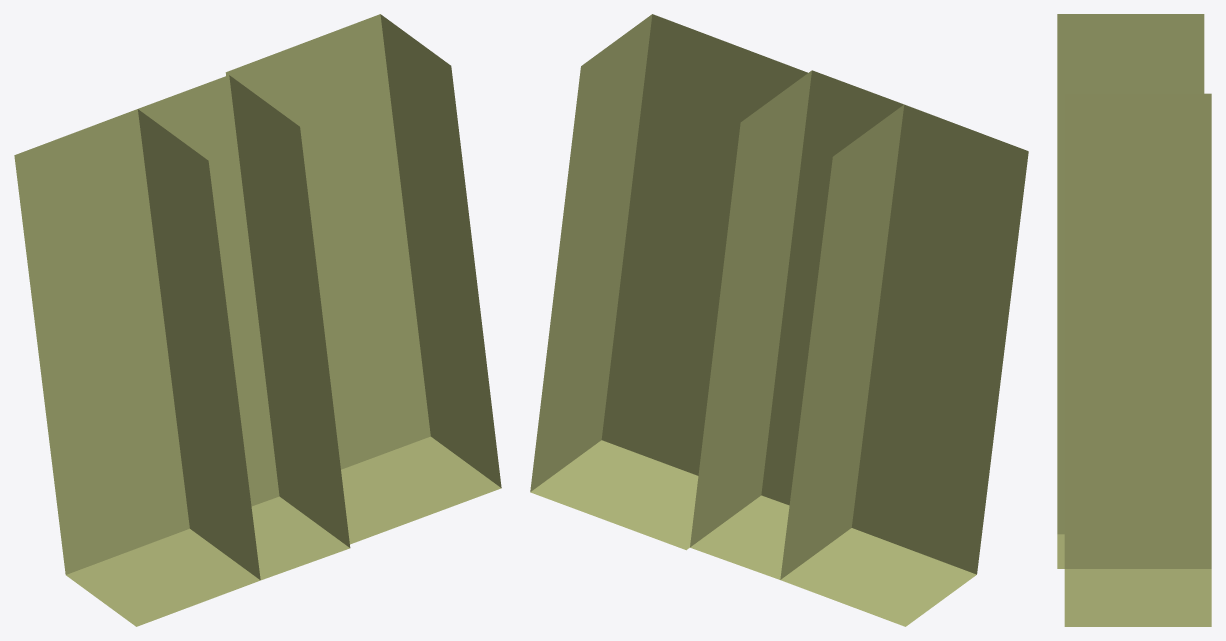
The picture shows the model from 3 angles, left to right: view 1: azimuth 30°, elevation 25°; view 2: azimuth 150°, elevation 25°; view 3: azimuth 270°, elevation 25°; orthographic projection. The views are drawn at different scales.
Parts seen in each view (by area): view 1: 0_1_0_2_0_0_0_1_3_2; view 2: 0_1_0_2_0_0_0_1_3_2; view 3: 0_1_0_2_0_0_0_1_3_2.
Part boxes in pixels (x1,y1,x2,y2): 0_1_0_2_0_0_0_1_3_2: [14, 14, 501, 626]; 0_1_0_2_0_0_0_1_3_2: [530, 14, 1028, 626]; 0_1_0_2_0_0_0_1_3_2: [1057, 14, 1211, 626].
Bounding box in the file's own units: 20.55 × 22.48 × 6.3.
